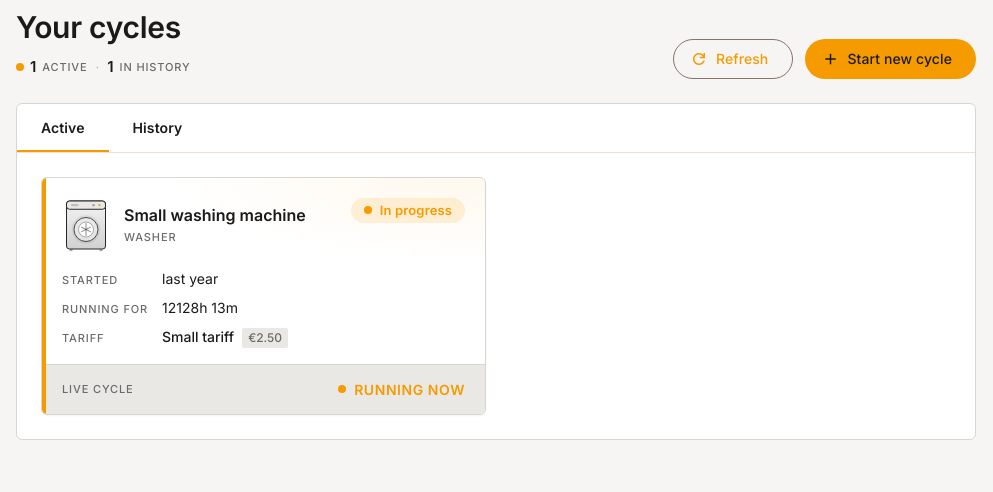
Test: CyclesListComponent › shows past cycles under History tab after switching
The width and height of the screenshot is (993, 492).
Click the tab "History" at (157, 127), box [132, 118, 182, 136]
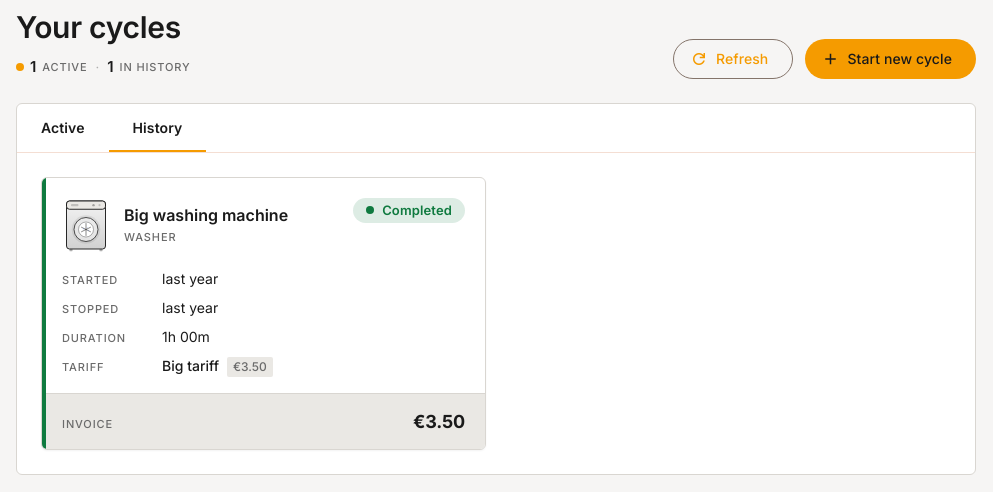
Expected: the number of "CycleCardHarness" components is 1, [41, 176, 486, 450]
